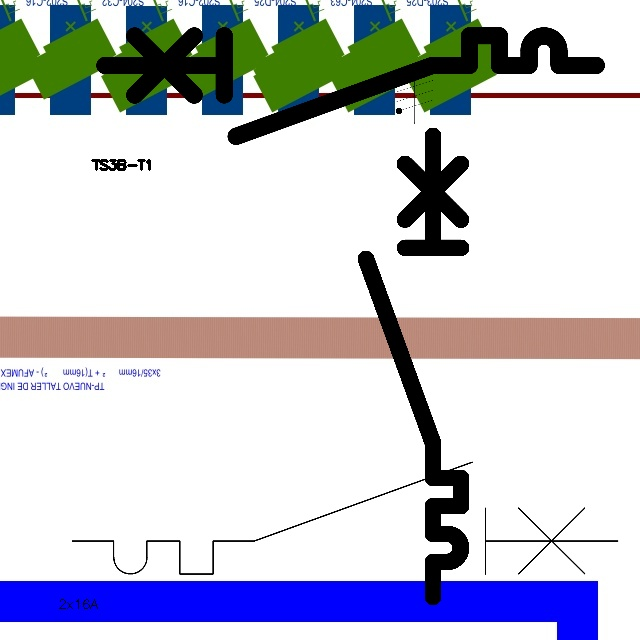interruptor_termomagnetico: (58, 448, 631, 588), (92, 23, 609, 149), (354, 123, 473, 609)
